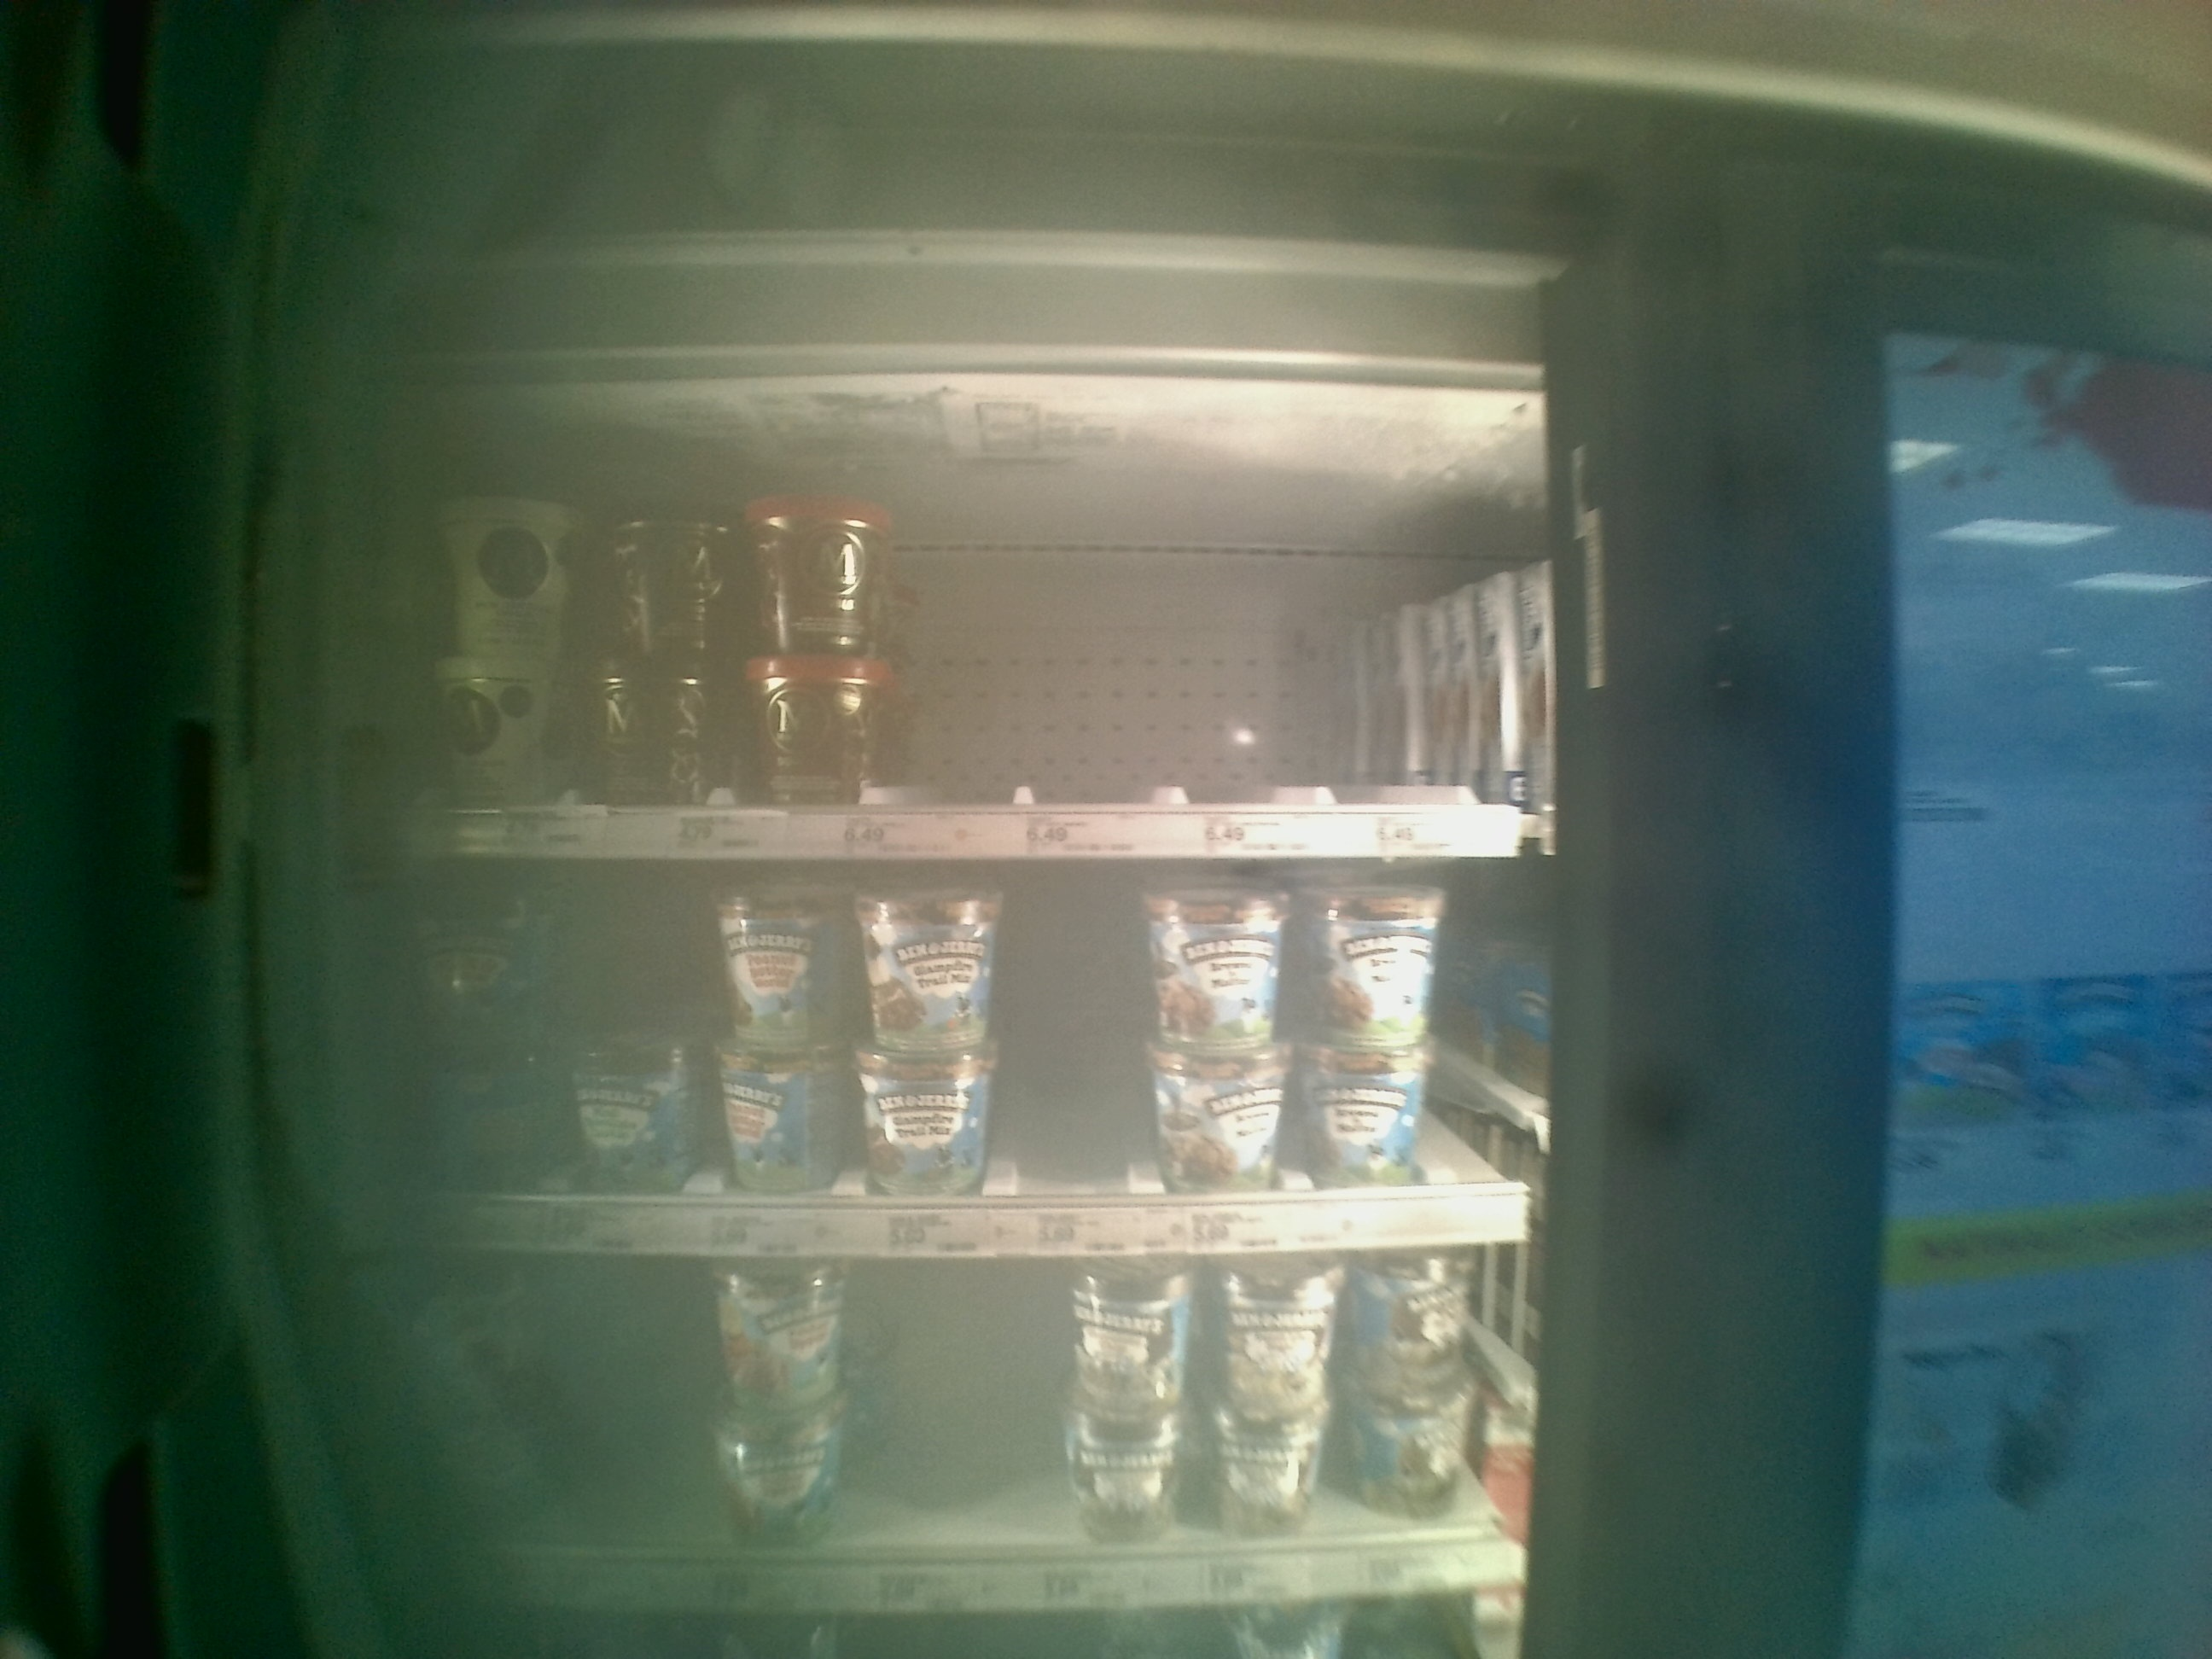shelf: (399, 422, 1536, 849), (421, 859, 1545, 1248)
